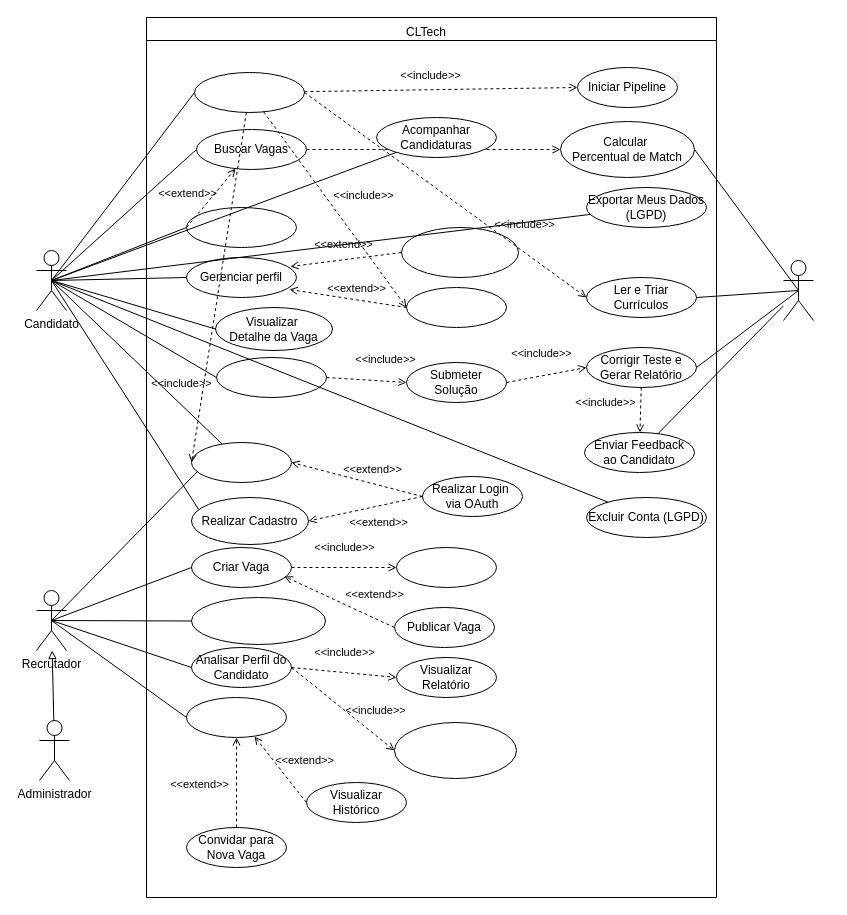
Some shapes in this 847 by 915 pixel diagram are drawn without their labels. The shapes that lost their labels are listed below. From the top down, each one's centre as x and y in pixels, then its label:
At (249,92): "Candidatar-se à Vaga".
At (241,227): "Filtrar Vagas".
At (459,252): "Conectar Contas Externas".
At (456,307): "Anexar Currículo".
At (798,290): "Sistema(IA)".
At (271,377): "Realizar teste de código".
At (241,462): "Realizar Login".
At (446,567): "Configurar Pipeline".
At (258,620): "Visualizar Painel de Recrutamento".
At (236,717): "Buscar Candidatos".
At (455,750): "Registrar Decisão".
